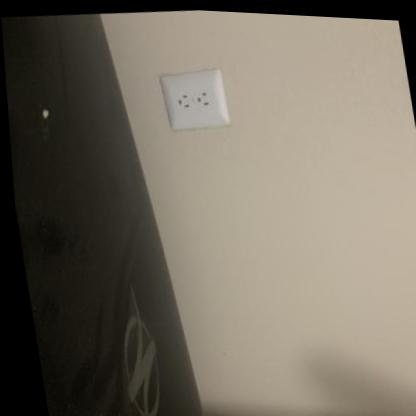OUTLET: (158, 68, 229, 130)
